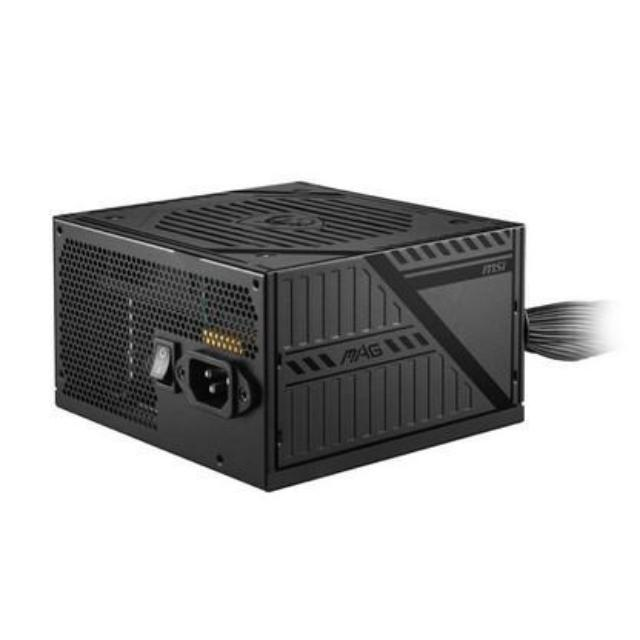PSU: (49, 178, 536, 504)
